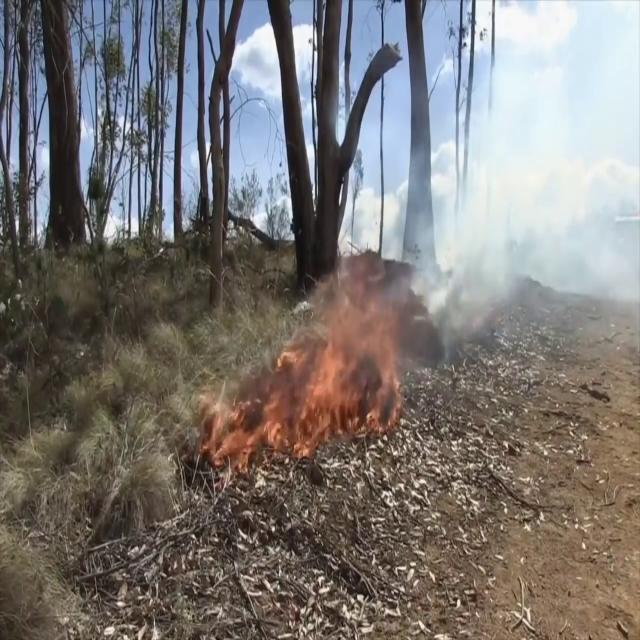Fire: (208, 256, 422, 468)
Smoke: (410, 34, 640, 352)
